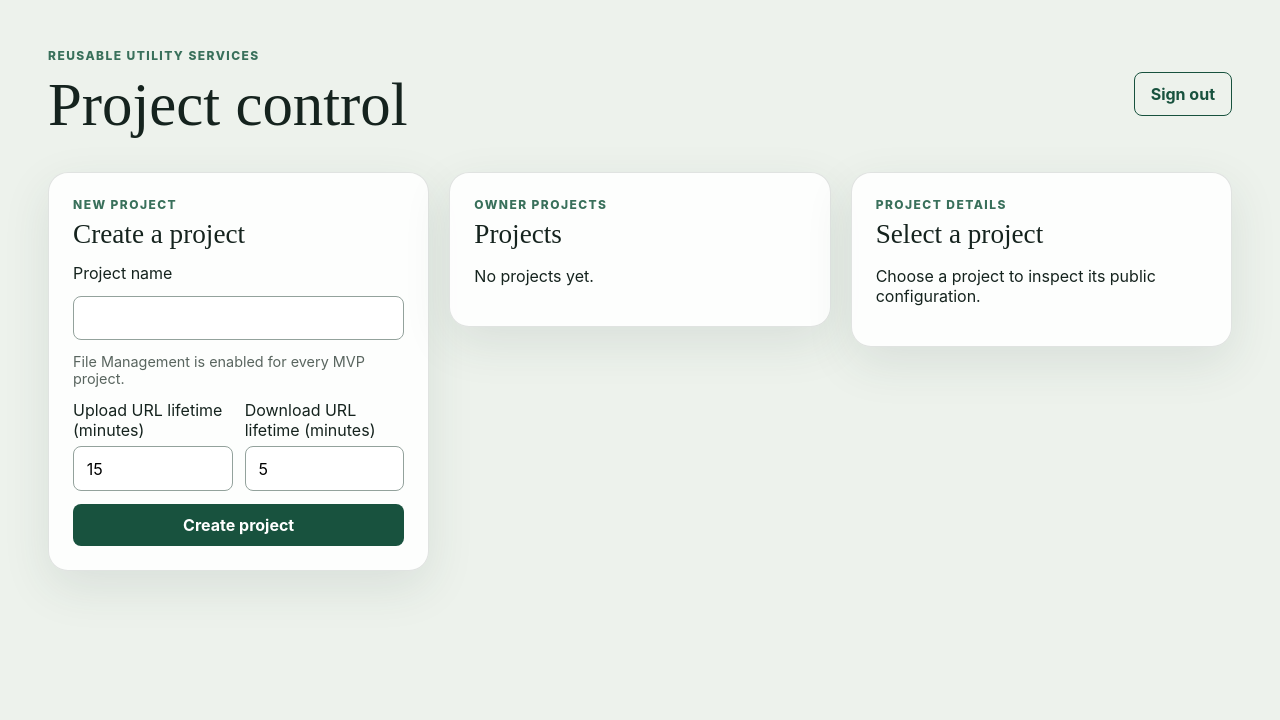
Test case: App › shows project control for an authenticated owner and signs out
This screenshot has width=1280, height=720.
expect the heading "Project control" is shown: met, box [48,70,408,140]
expect the text "No projects yet." is shown: met, box [474,266,594,286]
What coordinates should you click on to do the following:
click the button "Sign out"
I would click on:
 (1183, 94)
Its box is [1134,72,1232,116].
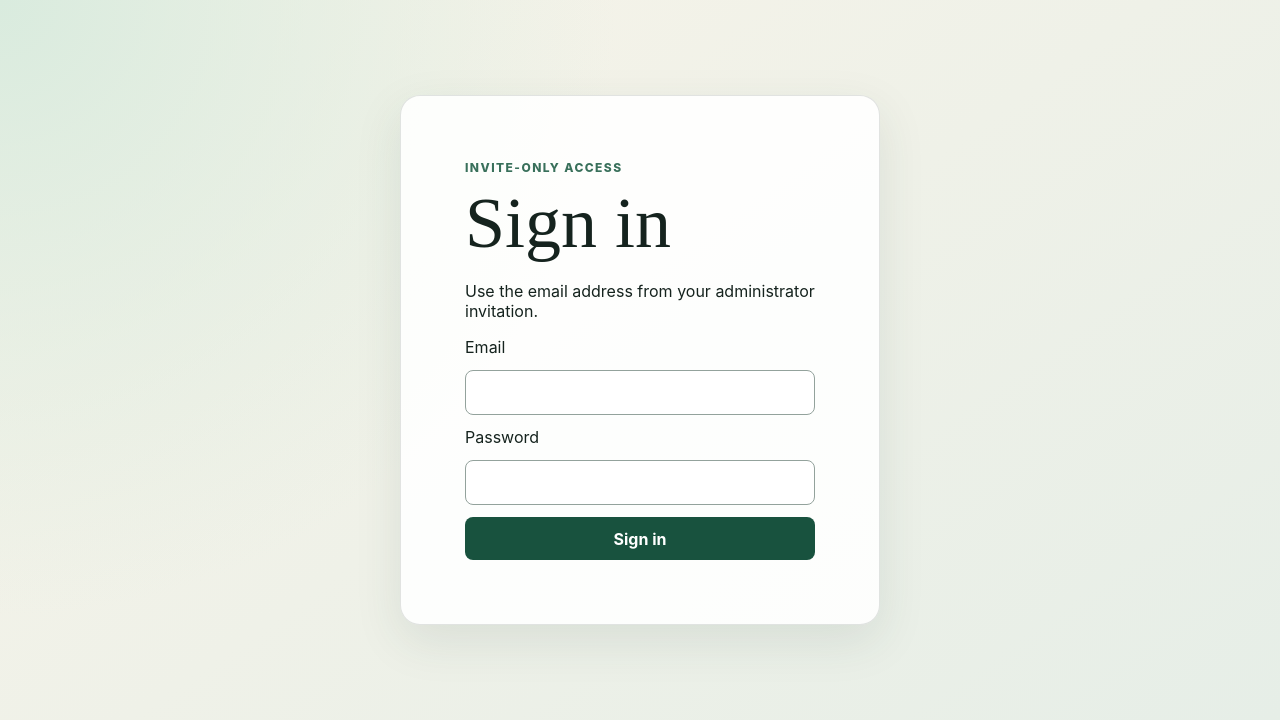
expect the heading "Sign in" is shown: met, box [465,183,671,263]
